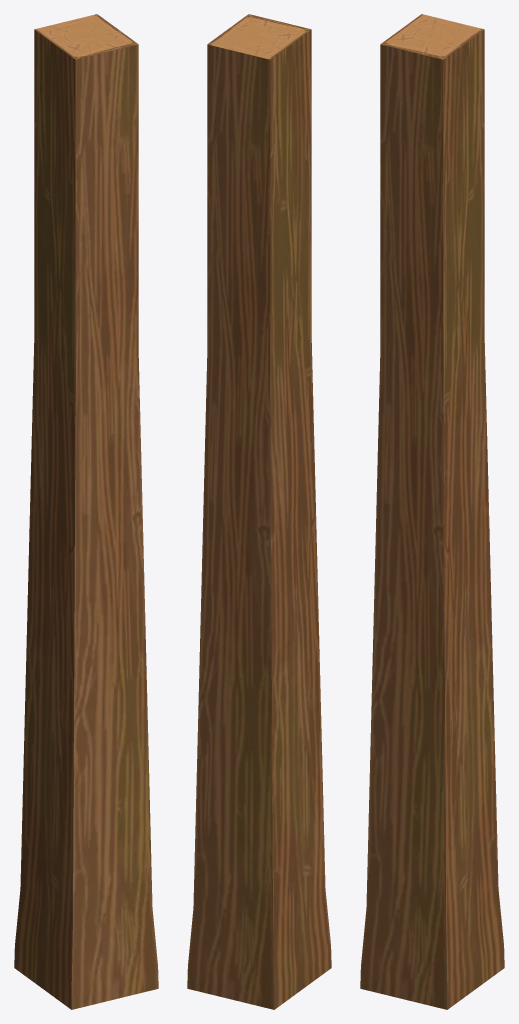
The model's file is corner_exteriorwide_wood.glb.
3 renders of one model, left to right at view 1: azimuth 30°, elevation 25°; view 2: azimuth 150°, elevation 25°; view 3: azimuth 330°, elevation 25°, orthographic.
Bounding box in the file's own units: 0.2904 × 3 × 0.3313.
1 material, 1 textured.
